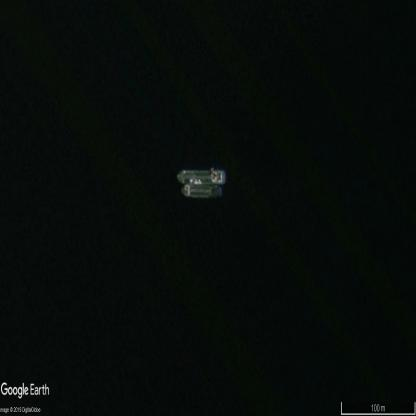ship: (176, 168, 227, 184), (181, 185, 224, 199)
